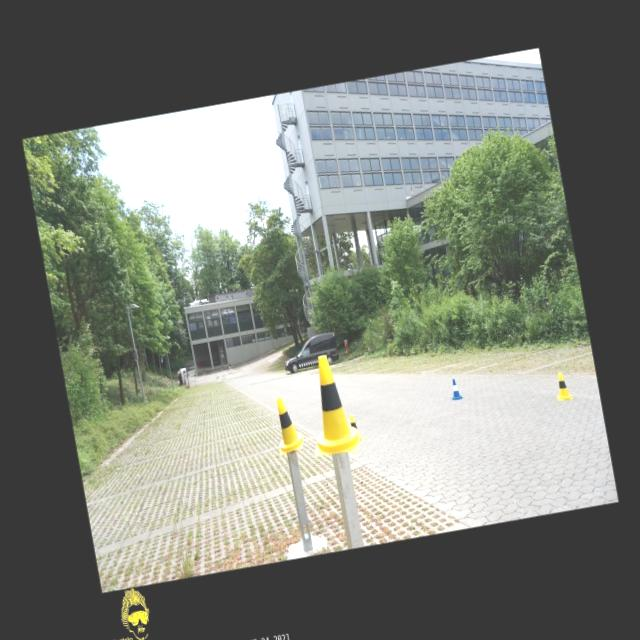blue_cone: (448, 377, 462, 400)
yellow_cone: (298, 351, 362, 458), (270, 394, 306, 454), (552, 371, 572, 401), (349, 412, 362, 439)
